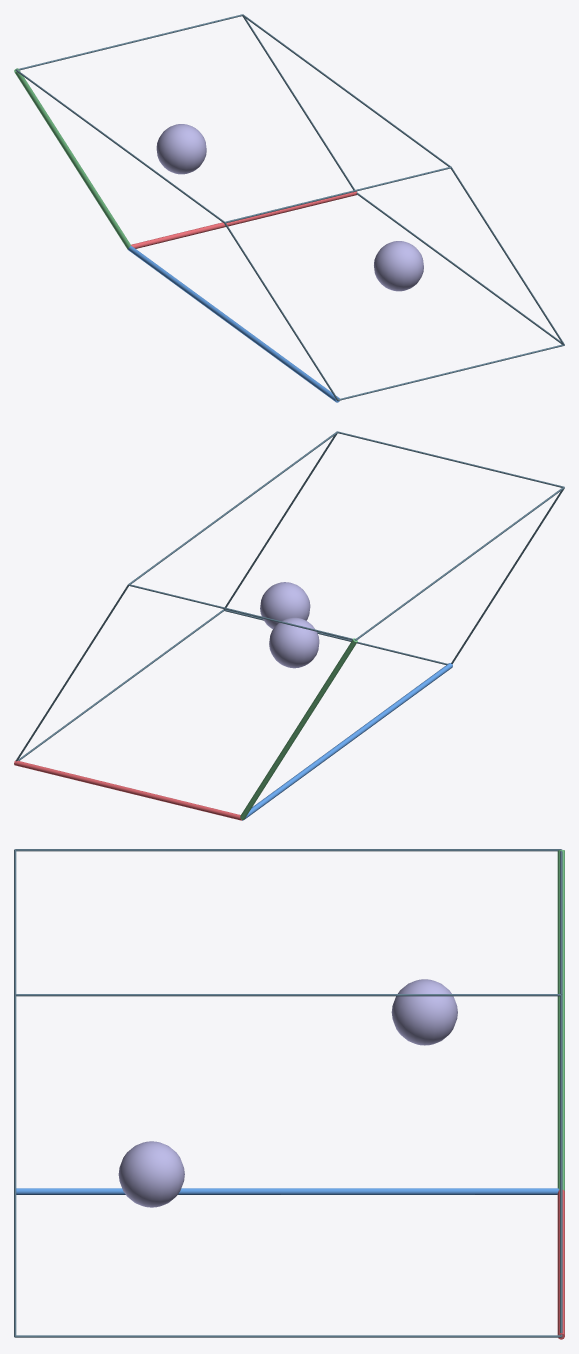
Rendered from nguyen-to-sc.glb.
3 renders of one model, top to bottom at view 1: azimuth 30°, elevation 25°; view 2: azimuth 150°, elevation 25°; view 3: azimuth 270°, elevation 25°, orthographic. The views are drawn at different scales.
Visible parts, largest first — view 1: Ô mạng và các trục a, b, c, Sc · Sc · 1 (×2); view 2: Ô mạng và các trục a, b, c, Sc · Sc · 1 (×2); view 3: Ô mạng và các trục a, b, c, Sc · Sc · 1 (×2).
Boxes of the visible parts, x1,y1,x2,y2 form: Ô mạng và các trục a, b, c: (14,14,564,402); Sc · Sc · 1 (×2): (156,124,423,291); Ô mạng và các trục a, b, c: (14,431,564,820); Sc · Sc · 1 (×2): (260,582,319,668); Ô mạng và các trục a, b, c: (14,849,564,1339); Sc · Sc · 1 (×2): (118,979,457,1207).
Bounding box in the file's own units: 5.01 × 2.92 × 5.32.
